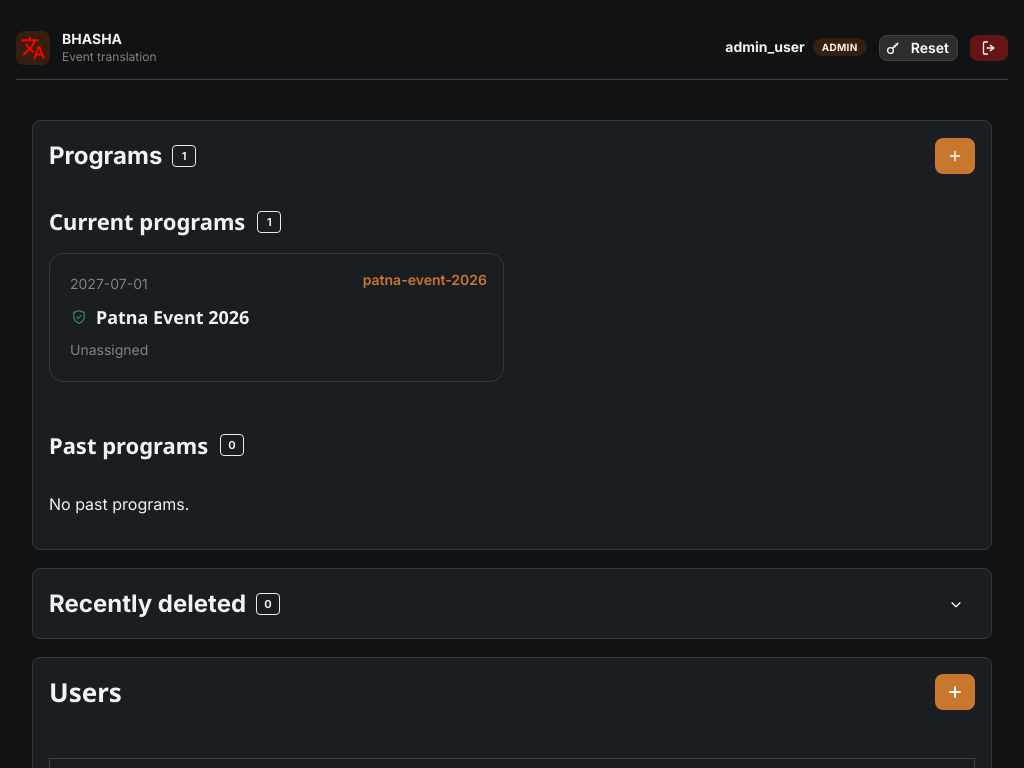
Test: AdminScreen › surfaces server validation messages when program creation fails
The image size is (1024, 768).
Expected: the heading "Patna Event 2026" is shown, [96, 304, 249, 330]
Step 1. Click the button named "Add program" → (955, 156), box [935, 138, 975, 174]
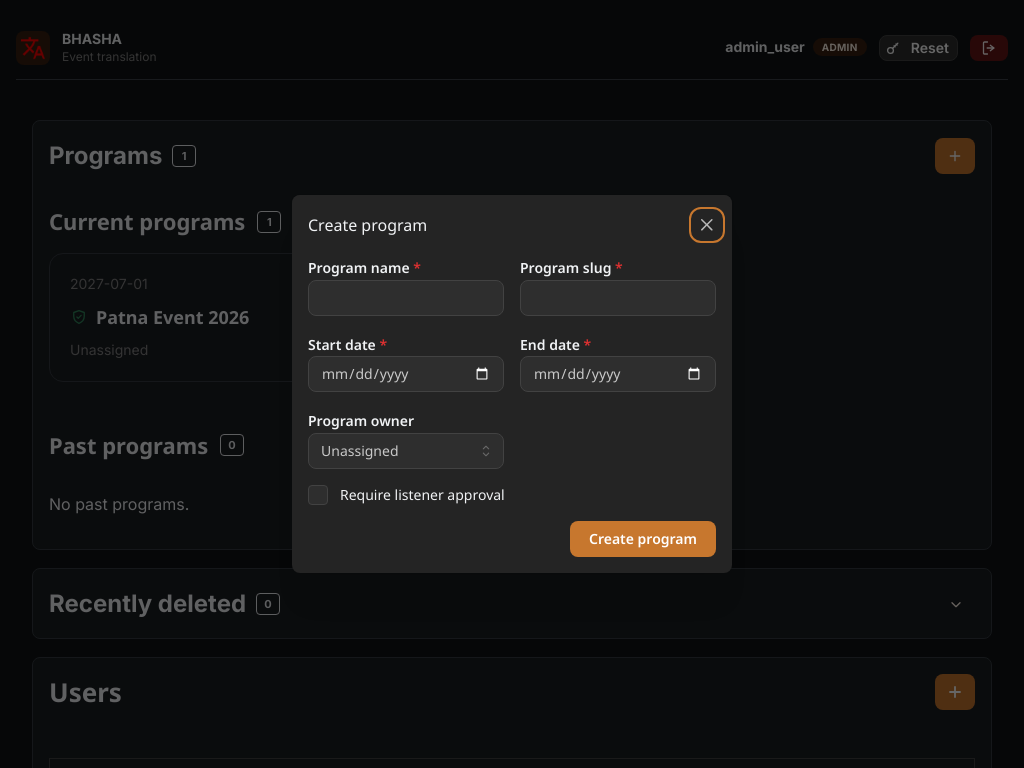
Step 2. Type "Bad Slug Event" into the field labelled "Program name" → (406, 298), box [308, 280, 504, 316]
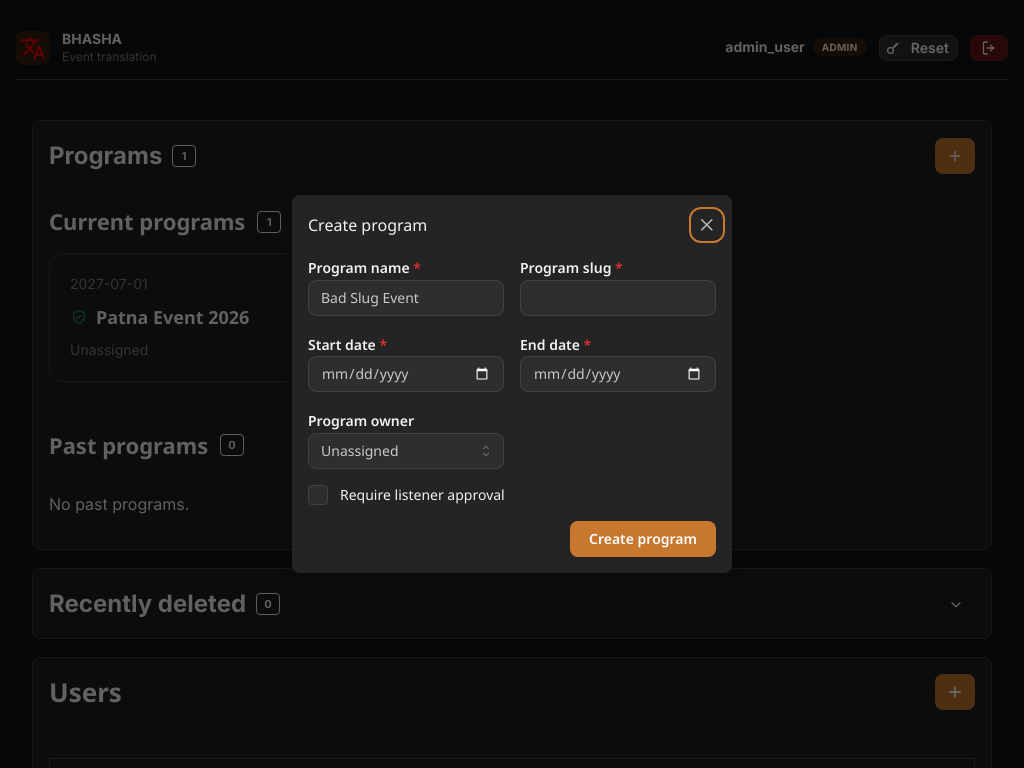
Step 3. Type "Bad Slug" into the field labelled "Program slug" → (618, 298), box [520, 280, 716, 316]
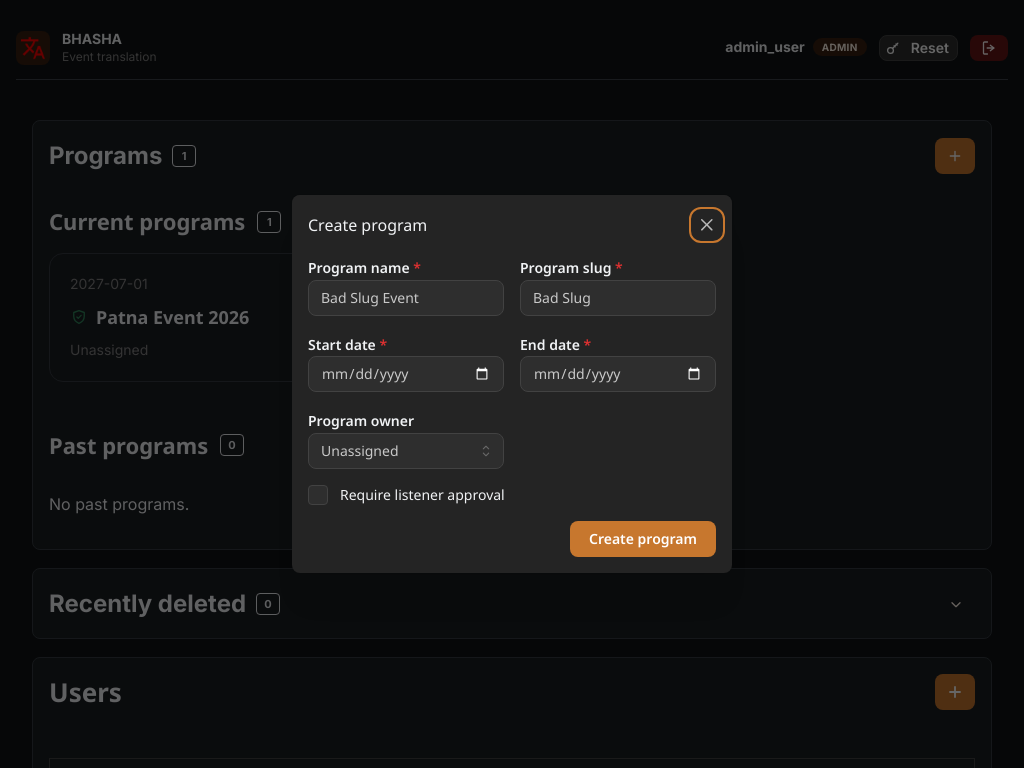
Step 4. Type "2026-07-01" into the date field labelled "Start date" → (406, 374), box [308, 356, 504, 392]
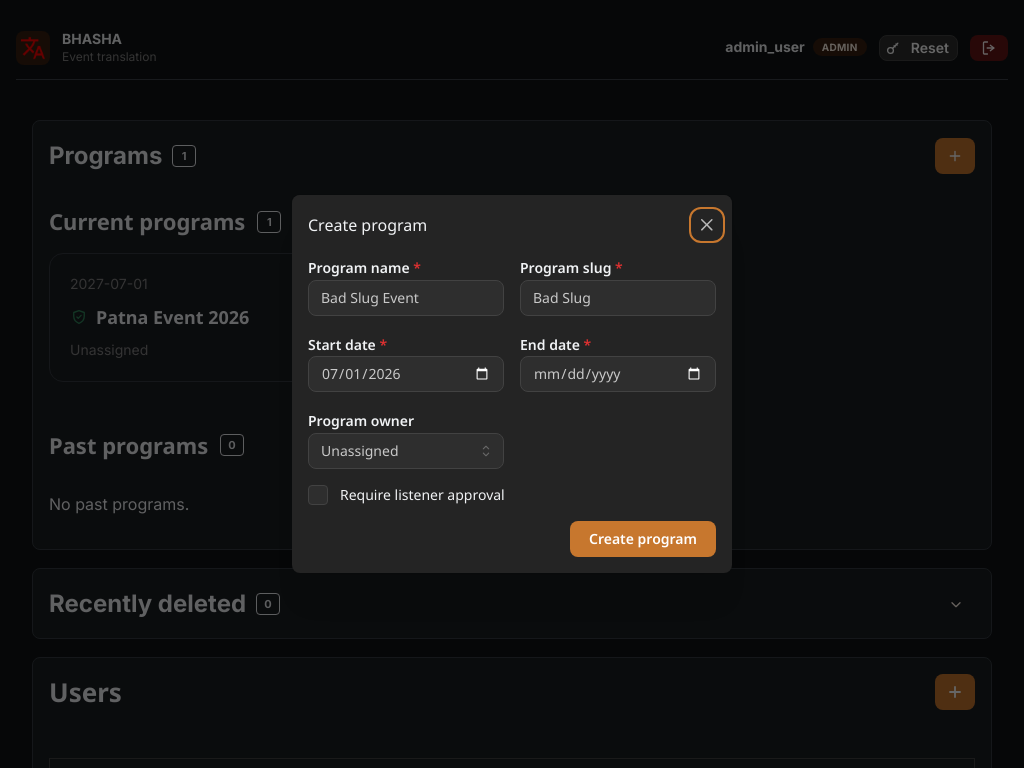
Step 5. Type "2026-07-01" into the date field labelled "End date" → (618, 374), box [520, 356, 716, 392]
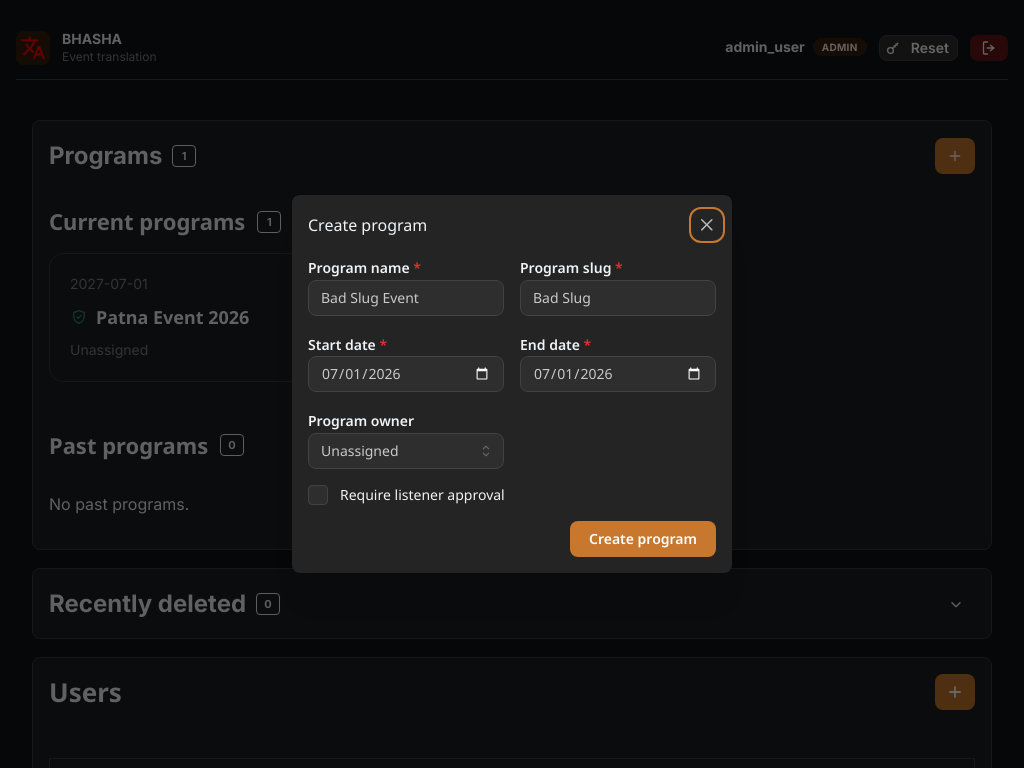
Step 6. Click the button "Create program" → (643, 539), box [570, 521, 716, 557]
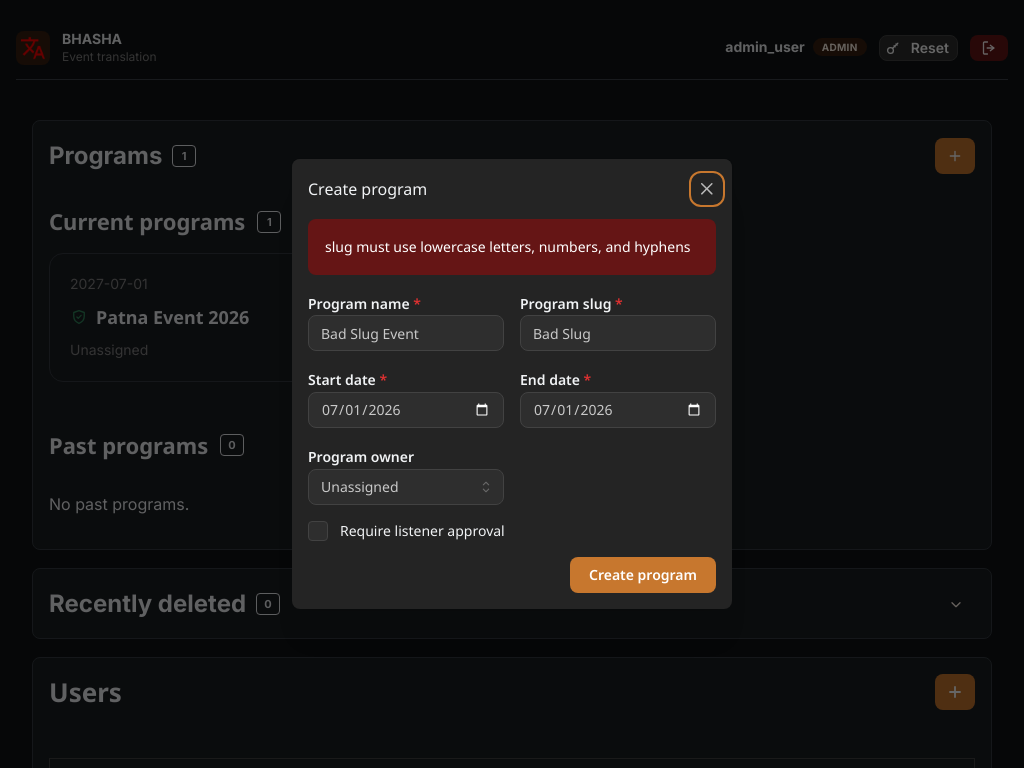
Expected: the message reads "slug must use lowercase letters, numbers, and hyphens", [325, 237, 690, 256]
